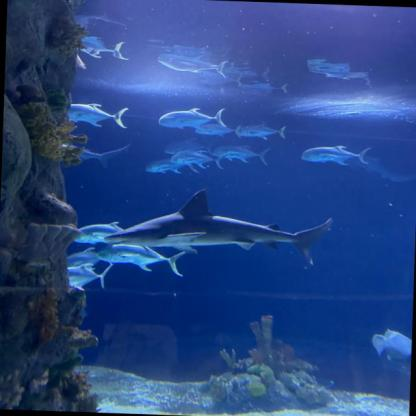fish: (91, 242, 187, 278), (297, 141, 377, 170), (156, 104, 230, 134), (58, 101, 130, 129), (210, 142, 277, 171), (62, 258, 114, 292), (157, 53, 228, 77), (70, 218, 130, 246), (370, 326, 412, 364), (167, 149, 225, 175), (230, 119, 292, 142), (66, 245, 112, 272), (74, 38, 126, 60), (141, 155, 186, 178)
shark: (104, 184, 333, 267), (41, 139, 130, 167)
